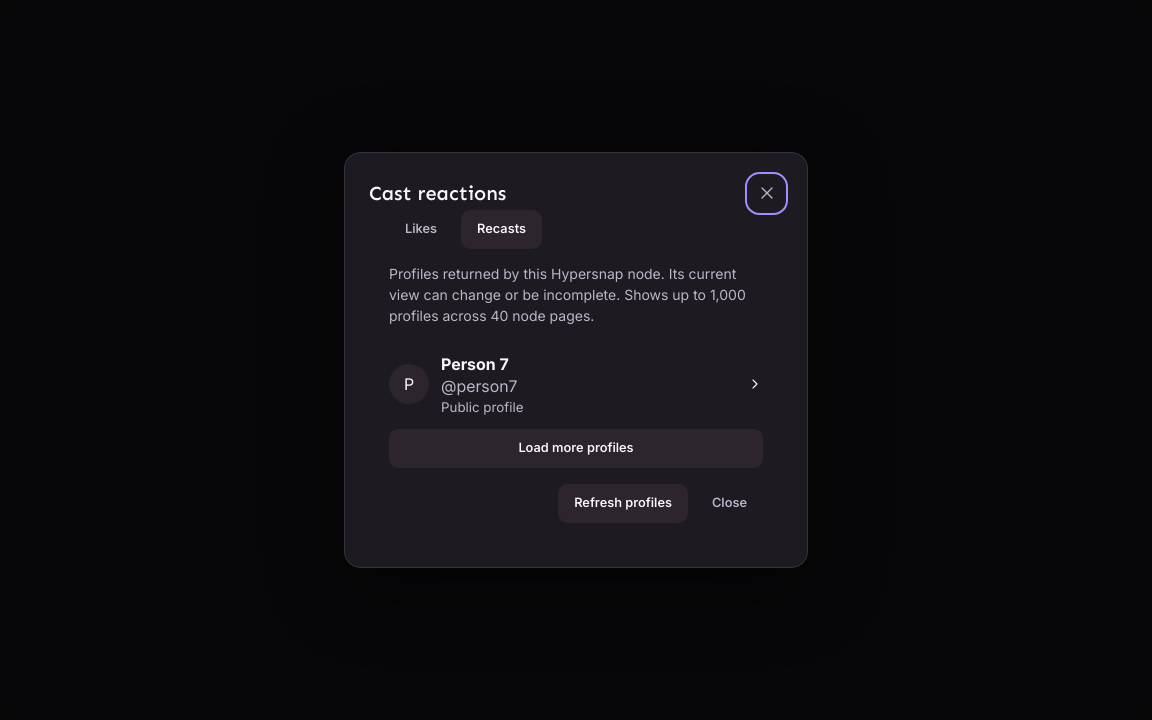
Scenario: cast reaction people › keeps failures distinct from empty and retries the failed continuation explicitly
What coordinates should you click on to do the following:
click the button "Load more profiles"
I would click on:
 (576, 448)
Its box is [389, 429, 763, 468].
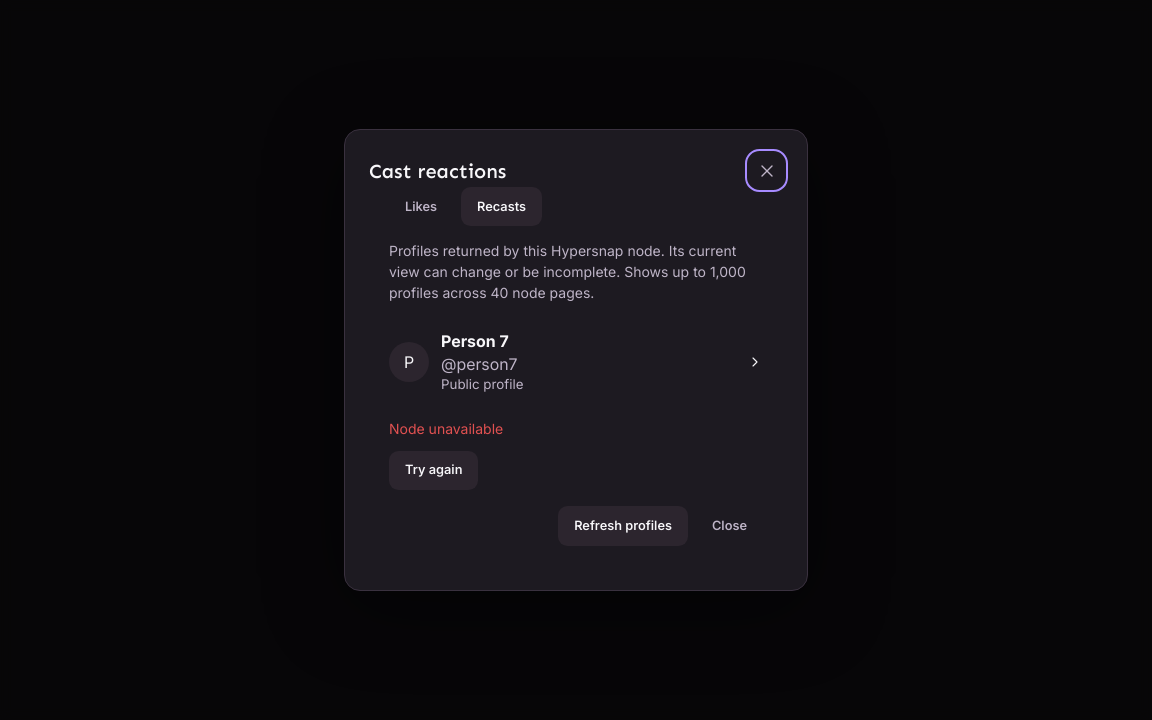
Check: the text "Person 7" is shown, box [441, 331, 509, 351]
Check: the message "Node unavailable" is shown, box [389, 420, 503, 437]
What coordinates should you click on to do the following:
click the button "Try again"
I would click on:
 (434, 471)
Its box is [389, 451, 478, 490].
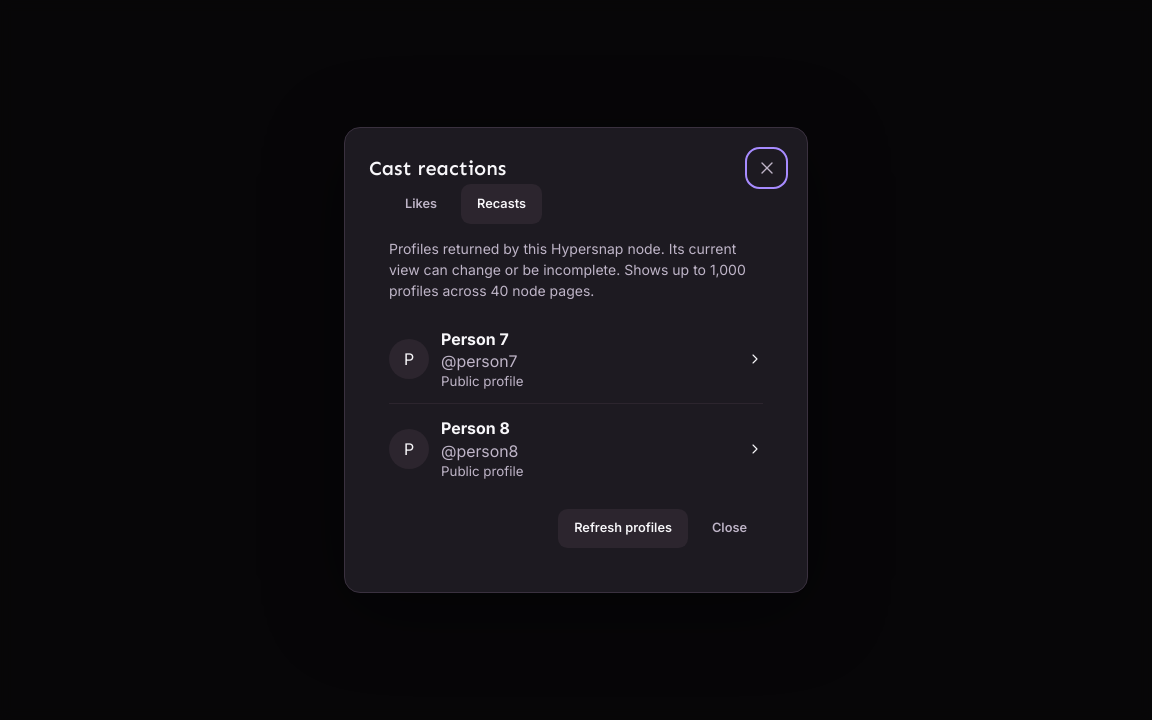
Check: the number of list items is 2, box [389, 315, 763, 403]; [389, 403, 763, 493]
